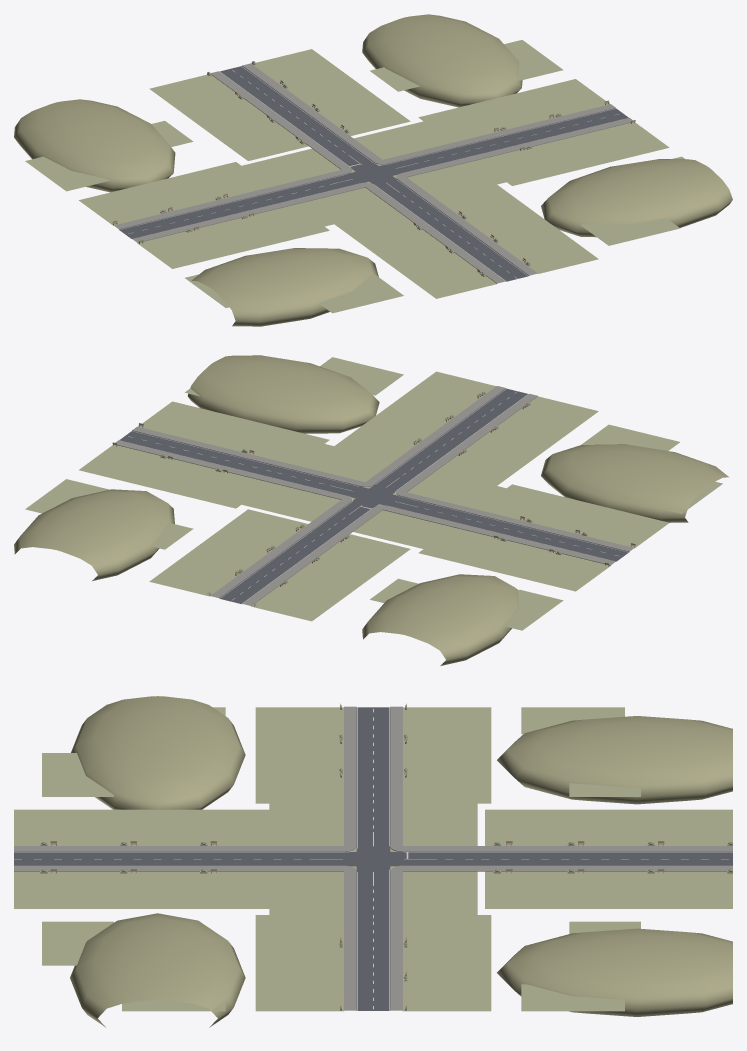
The picture shows the model from 3 angles, top to bottom: view 1: azimuth 30°, elevation 25°; view 2: azimuth 150°, elevation 25°; view 3: azimuth 270°, elevation 25°; orthographic projection. The views are drawn at different scales.
Visible parts, largest first — view 1: static; view 2: static; view 3: static.
Boxes of the visible parts, box(x1,y1,x2,y2) form: static: box(14, 14, 732, 326); static: box(14, 355, 728, 665); static: box(14, 696, 732, 1027).
Size of what is drawn, in the model's own units: 180 by 14.08 by 180.
